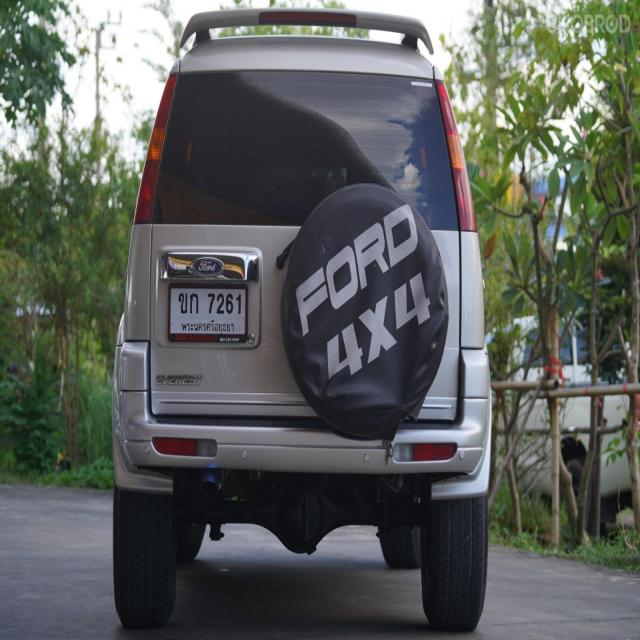license_plate: (170, 283, 248, 344)
